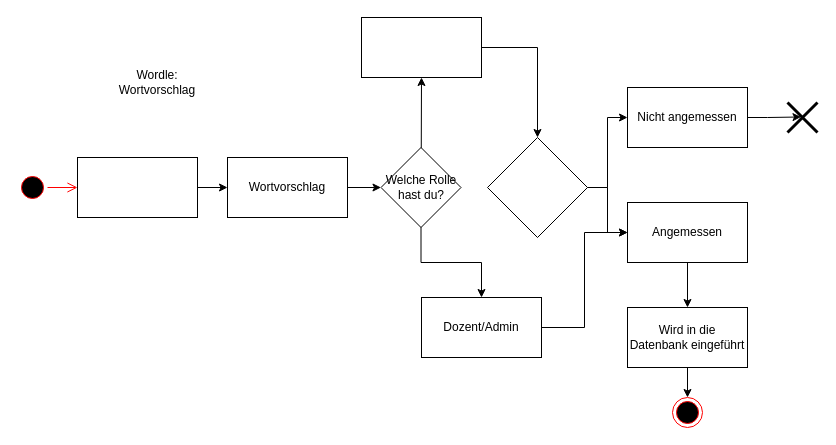
Image size: 836x445. Some labels were removed from this diagram. The shapes that lost their labels are listed below. From the top down, each one's centre as x and y in pixels, then its label:
At (421,47): "Student".
At (137,187): "Kategorie auswählen".
At (537,187): "Ist das Wort angemessen?".
